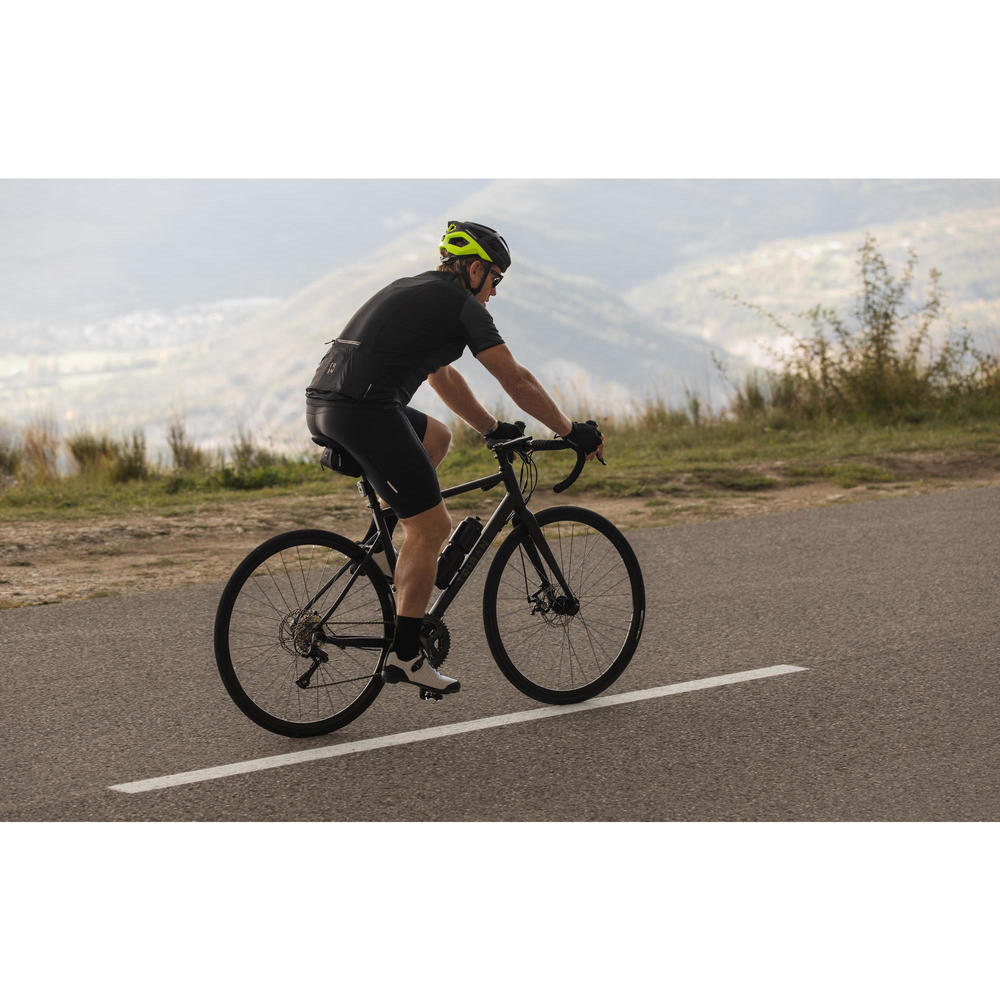RoadBike: (213, 411, 656, 746)
